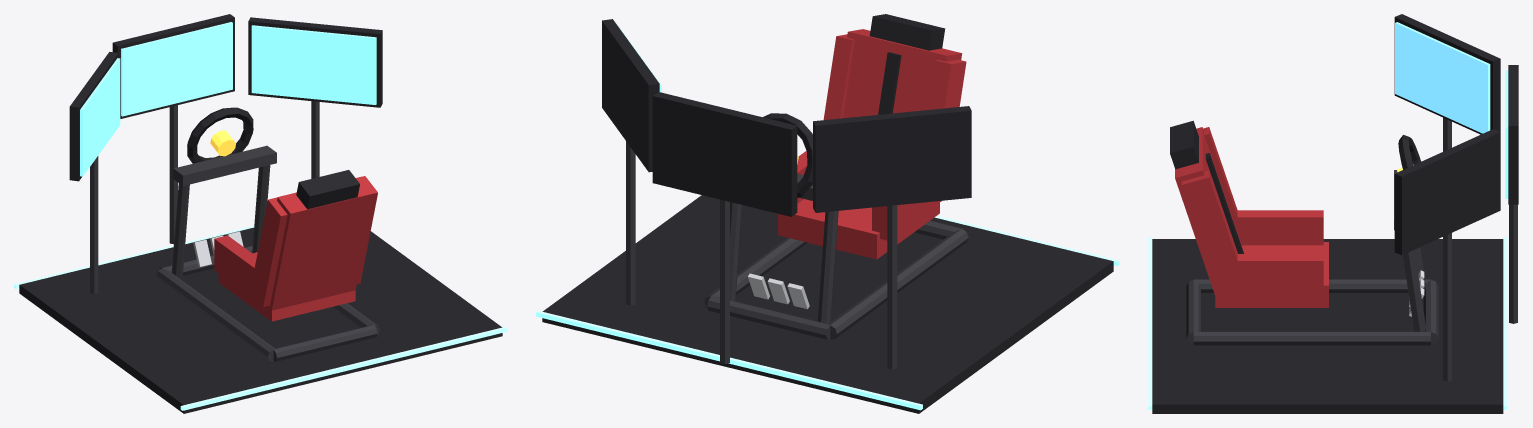
The model's file is lux_racing_sim.glb.
3 renders of one model, left to right at view 1: azimuth 30°, elevation 25°; view 2: azimuth 150°, elevation 25°; view 3: azimuth 270°, elevation 25°, orthographic. The views are drawn at different scales.
Parts seen in each view (by area): view 1: lux_racing_sim; view 2: lux_racing_sim; view 3: lux_racing_sim.
Boxes of the visible parts, x1=… form: lux_racing_sim: x1=14, y1=14, x2=507, y2=413; lux_racing_sim: x1=536, y1=14, x2=1119, y2=413; lux_racing_sim: x1=1148, y1=14, x2=1518, y2=413.
Bounding box in the file's own units: 1.94 × 1.26 × 1.8.
